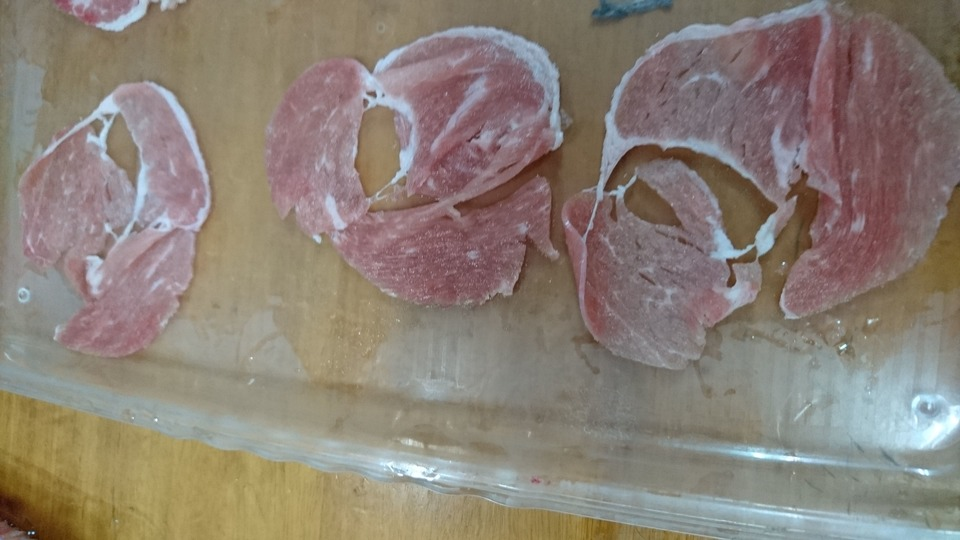restructured meat: (573, 4, 957, 355), (269, 49, 562, 302), (4, 68, 238, 361)
